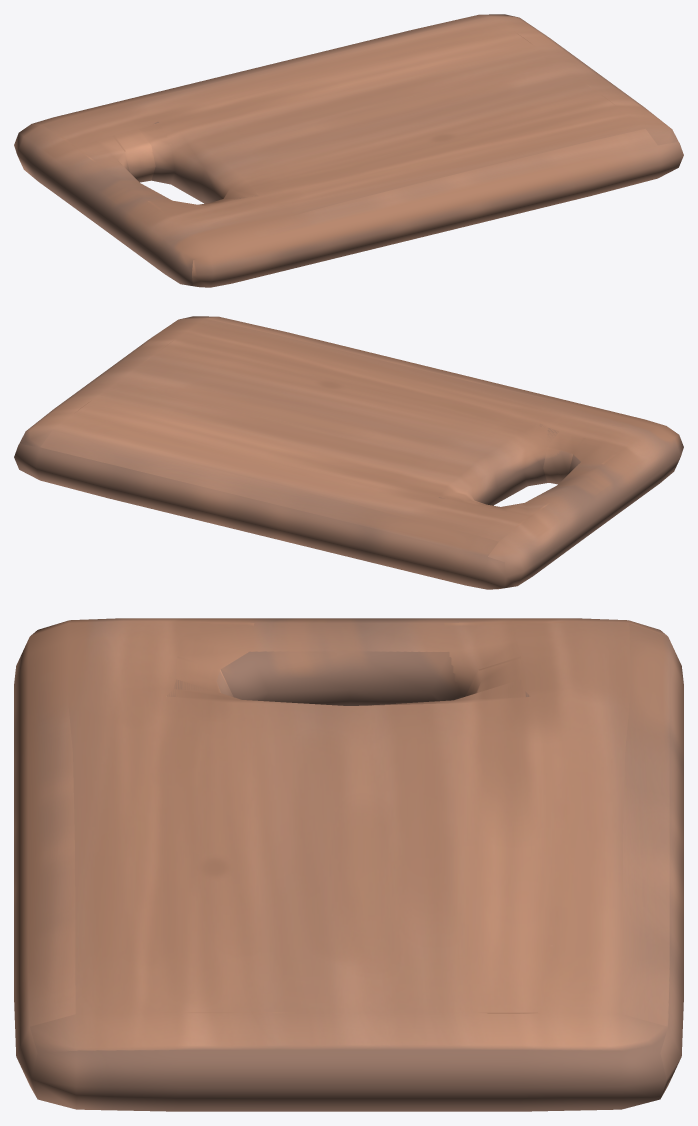
The model's file is tabla uv.fbx.
3 renders of one model, top to bottom at view 1: azimuth 30°, elevation 25°; view 2: azimuth 150°, elevation 25°; view 3: azimuth 270°, elevation 25°, orthographic. The views are drawn at different scales.
Parts seen in each view (by area): view 1: tabla de picar; view 2: tabla de picar; view 3: tabla de picar.
Part boxes in pixels (box(x1,y1,x2,y2)): tabla de picar: box(14, 14, 683, 287); tabla de picar: box(14, 316, 683, 589); tabla de picar: box(14, 618, 683, 1111).
Size of the model in its own units: 214 by 20.72 by 136.
